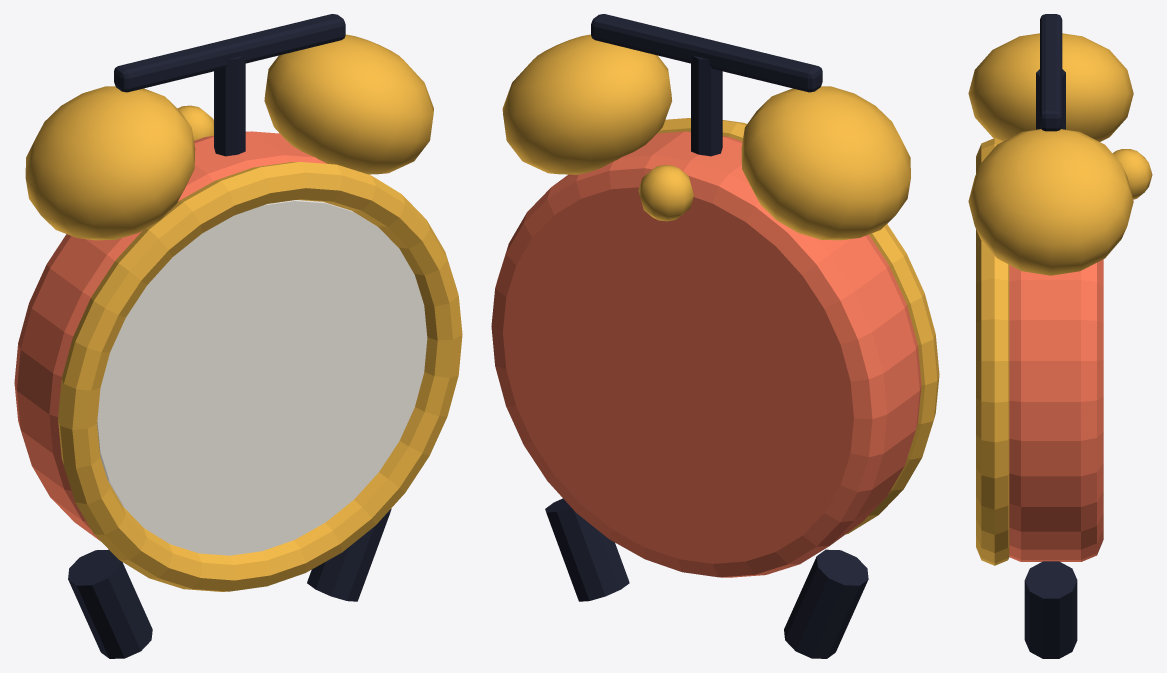
Rendered from desk_clock.glb.
3 views of the same model, side by side, from view 1: azimuth 30°, elevation 25°; view 2: azimuth 150°, elevation 25°; view 3: azimuth 270°, elevation 25° (orthographic). The views are drawn at different scales.
Visible parts, largest first — view 1: face, rim, bell-1, bell1, body, hammer, foot-1, foot1, stem, knob; view 2: body, bell-1, bell1, hammer, rim, foot-1, foot1, stem, knob; view 3: body, bell1, bell-1, rim, foot1, hammer, knob, stem.
Part boxes in pixels (bbox=[...]): face: bbox=[97, 200, 427, 555]; rim: bbox=[58, 162, 462, 591]; bell-1: bbox=[25, 86, 195, 240]; bell1: bbox=[264, 34, 433, 174]; body: bbox=[14, 131, 327, 541]; hammer: bbox=[114, 14, 345, 92]; foot-1: bbox=[68, 549, 152, 658]; foot1: bbox=[307, 509, 391, 601]; stem: bbox=[214, 55, 245, 156]; knob: bbox=[177, 105, 213, 140]; body: bbox=[491, 131, 921, 577]; bell-1: bbox=[741, 86, 910, 240]; bell1: bbox=[502, 34, 671, 174]; hammer: bbox=[591, 14, 822, 92]; rim: bbox=[657, 118, 939, 534]; foot-1: bbox=[784, 549, 868, 658]; foot1: bbox=[545, 498, 629, 601]; stem: bbox=[691, 55, 722, 156]; knob: bbox=[638, 165, 693, 221]; body: bbox=[1009, 259, 1103, 561]; bell1: bbox=[968, 129, 1133, 275]; bell-1: bbox=[968, 33, 1133, 141]; rim: bbox=[976, 138, 1009, 565]; foot1: bbox=[1024, 561, 1077, 658]; hammer: bbox=[1040, 14, 1062, 131]; knob: bbox=[1113, 149, 1152, 199]; stem: bbox=[1036, 69, 1065, 129].
Bounding box in the file's own units: 0.57 × 0.7932 × 0.245.
